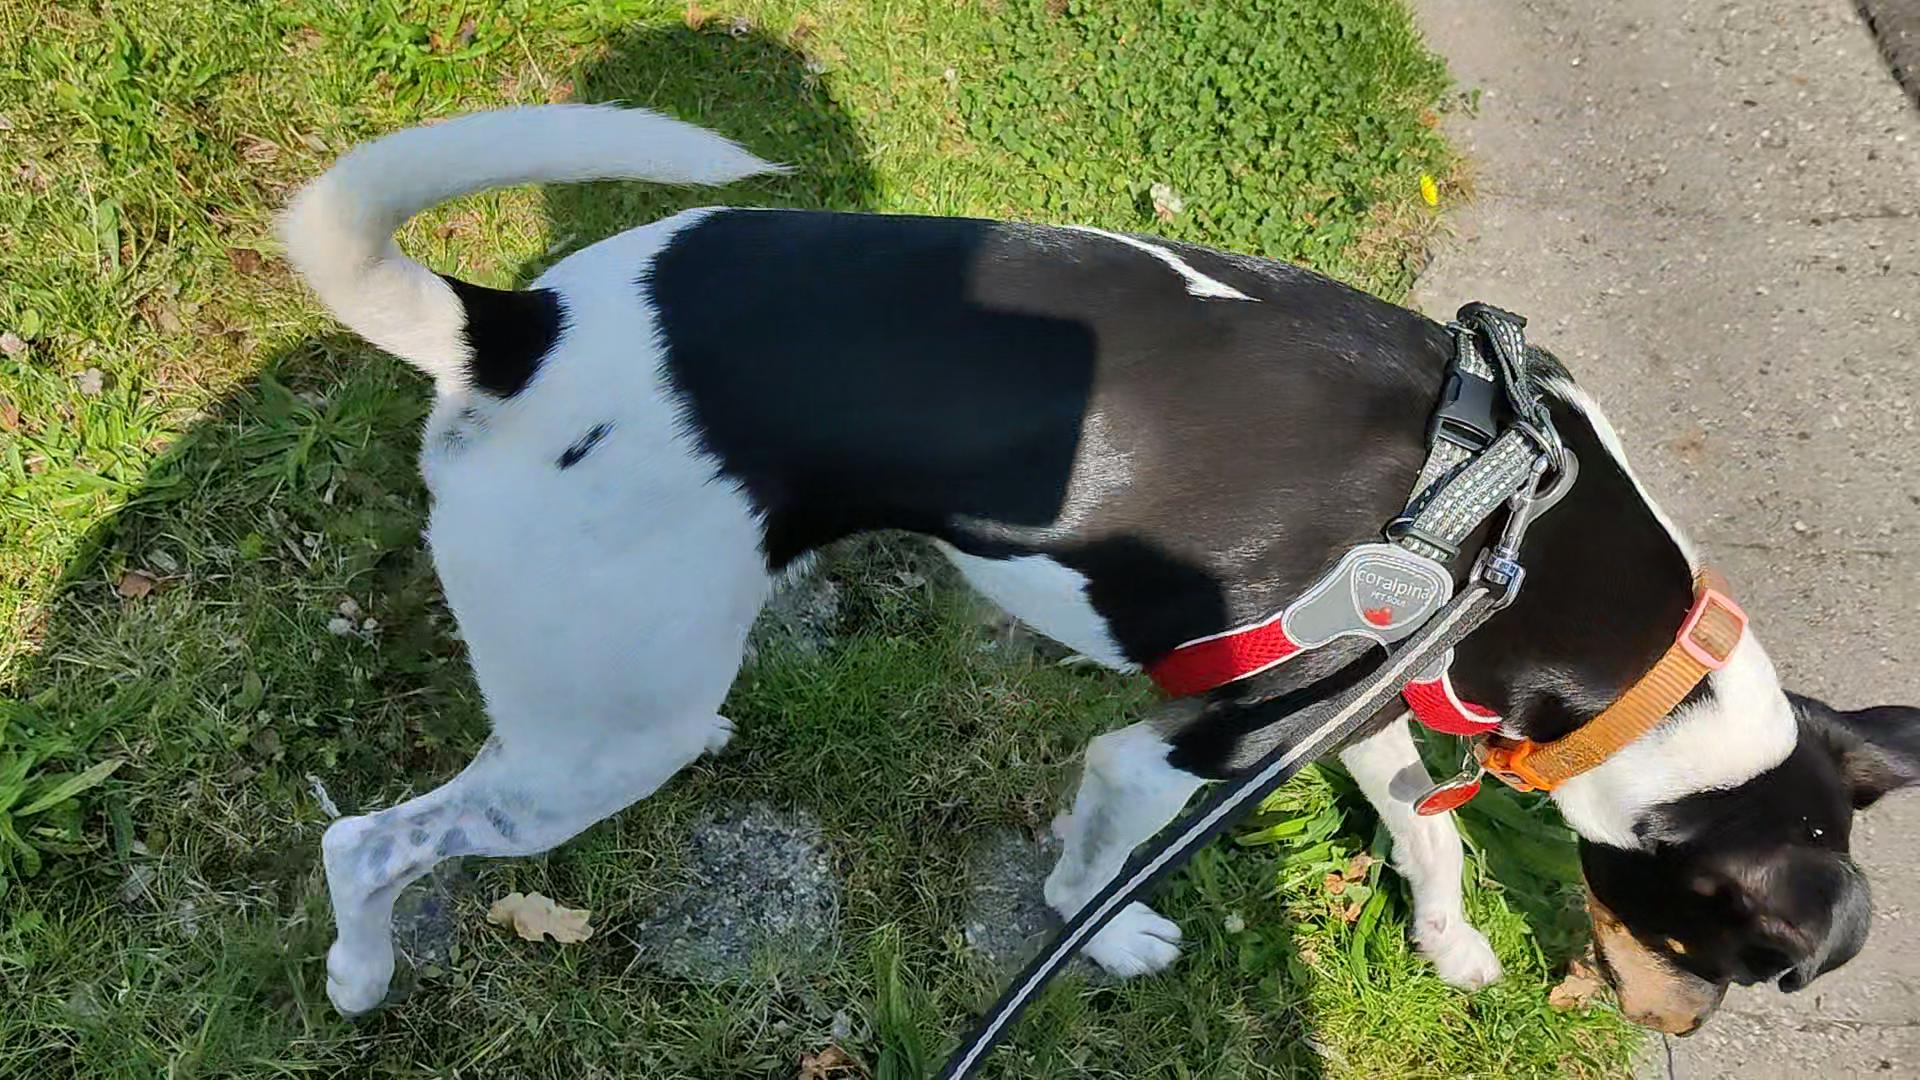Dog: (262, 98, 1919, 1044)
